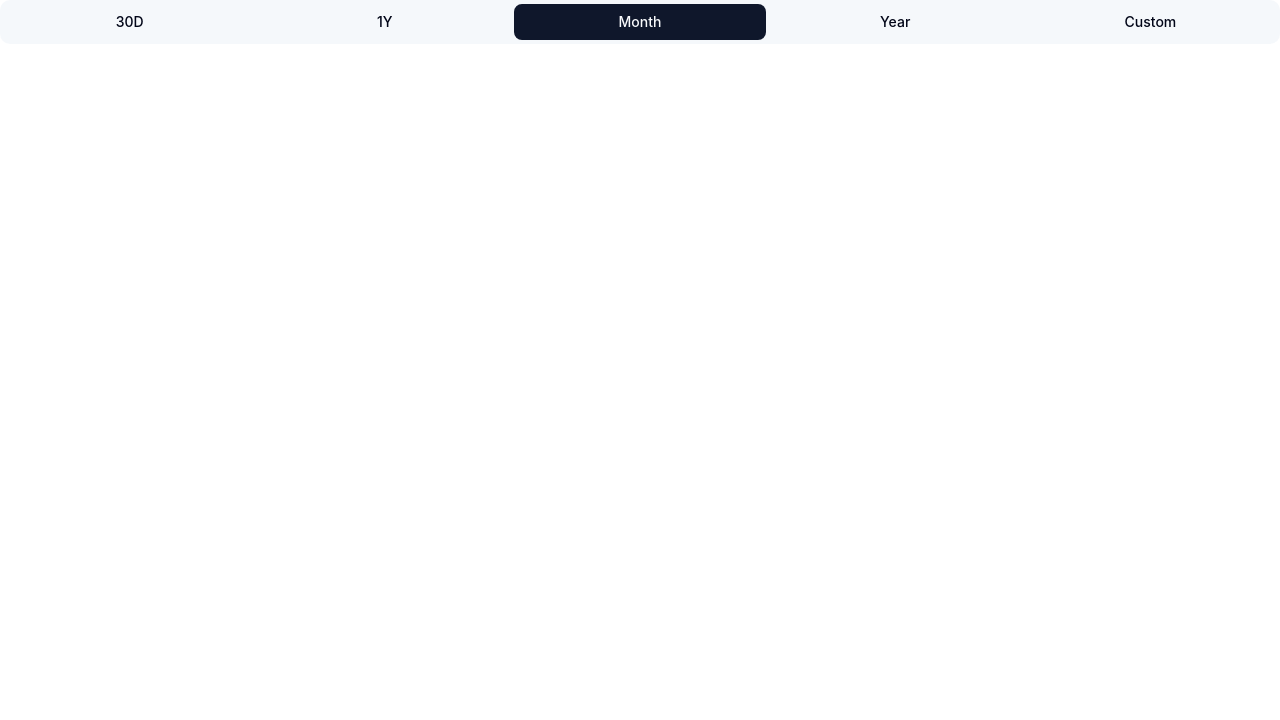
uses a single row of preset buttons; a two-tap Custom calendar stays open until both dates
Click the button with aria-label "Custom period": (1150, 22) [1025,4,1276,40]
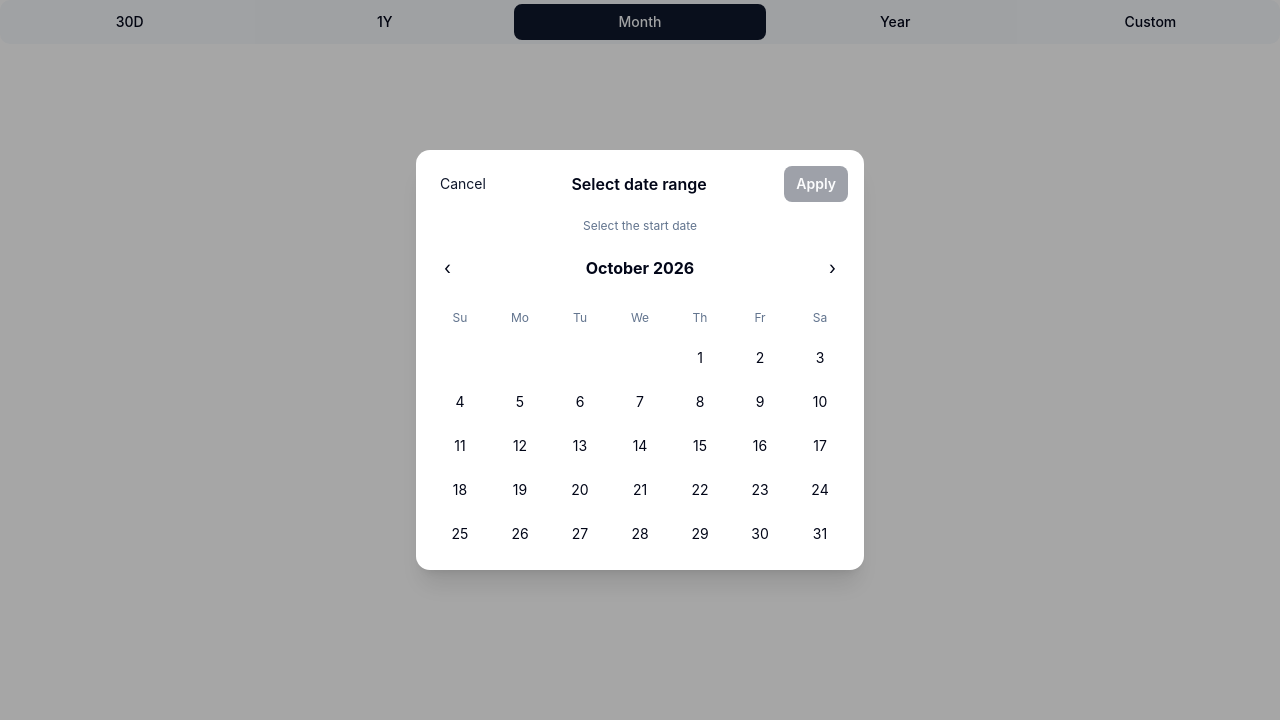
expect the dialog is shown: met, box [416,150,864,570]
Click the button named "2026-10-06": (580, 402) [552,382,608,422]
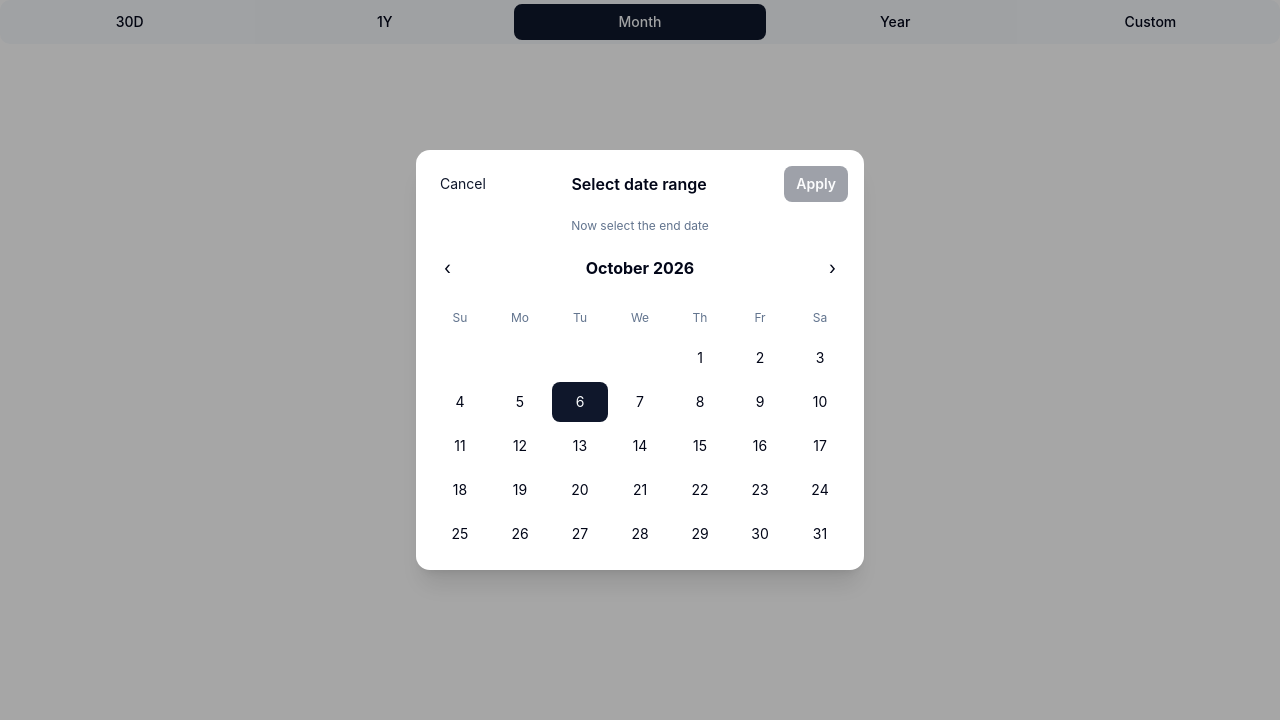
expect the button "Apply" is disabled: met, box [784,166,848,202]
expect the text "Now select the end date" is shown: met, box [571,218,709,233]
Click the button "18": (460, 490) [432,470,488,510]
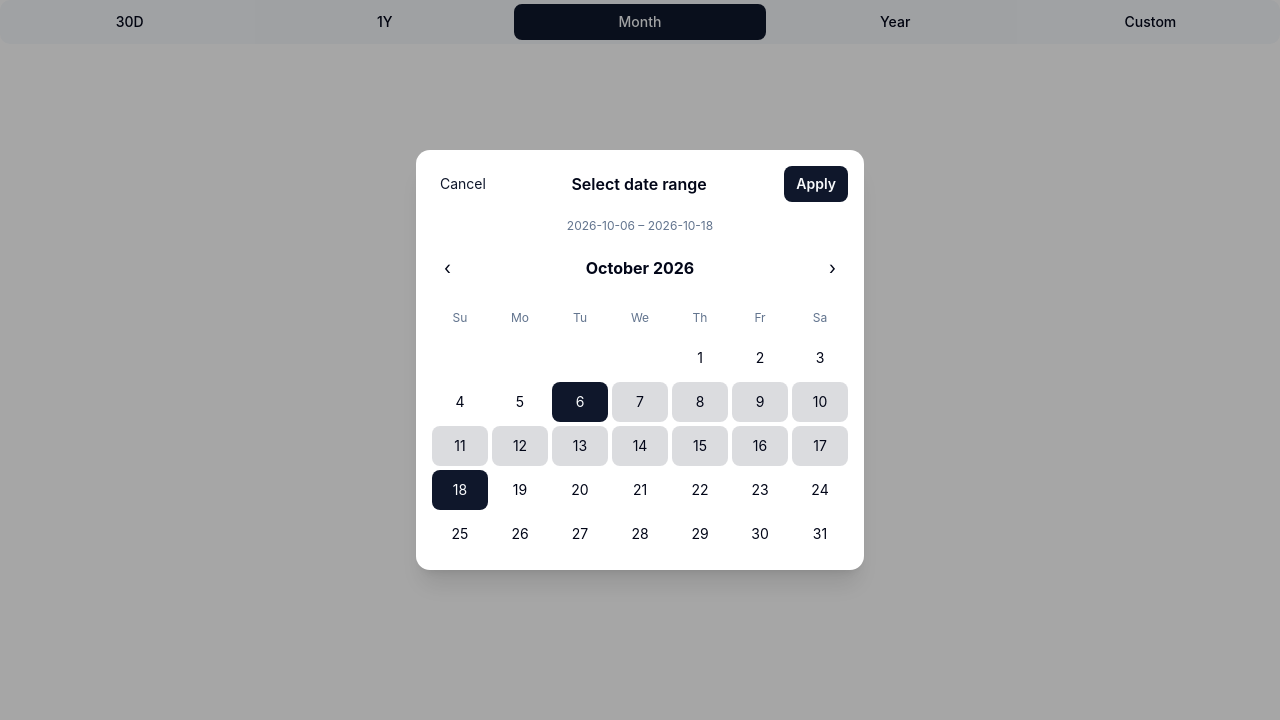
expect the dialog is shown: met, box [416,150,864,570]
Click the button "Apply": (816, 184) [784,166,848,202]
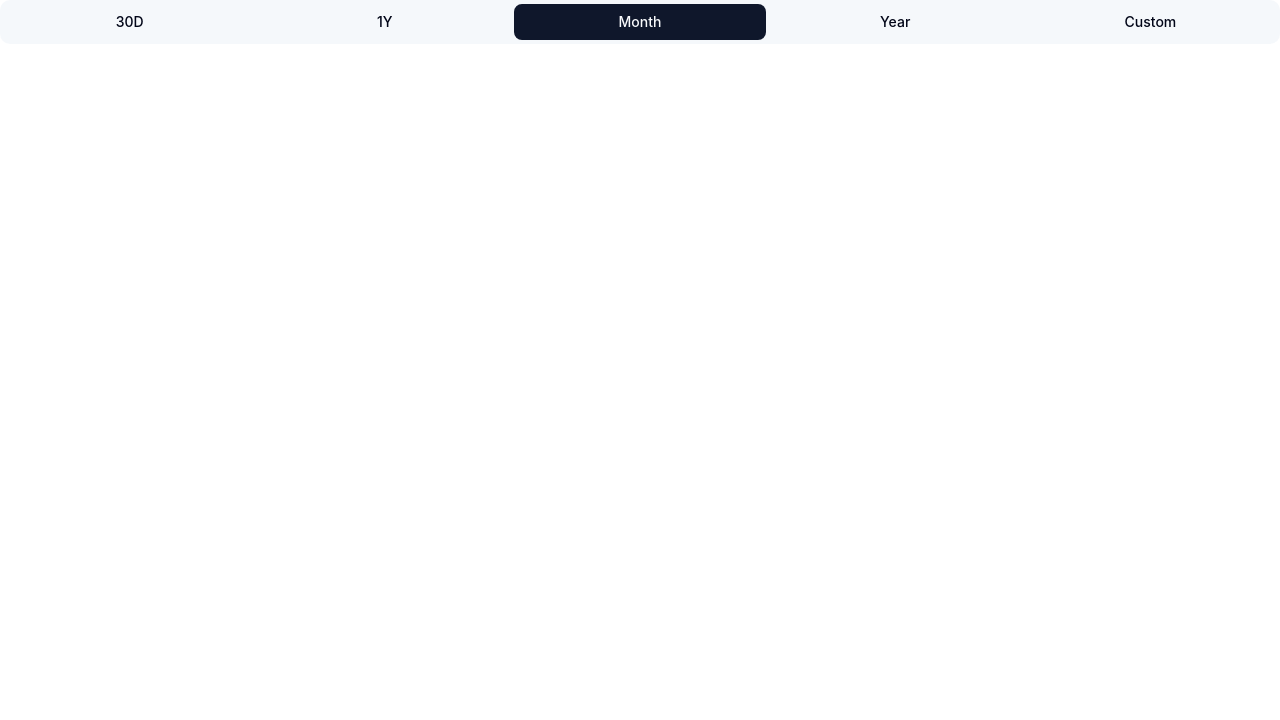
expect the dialog is gone: met
